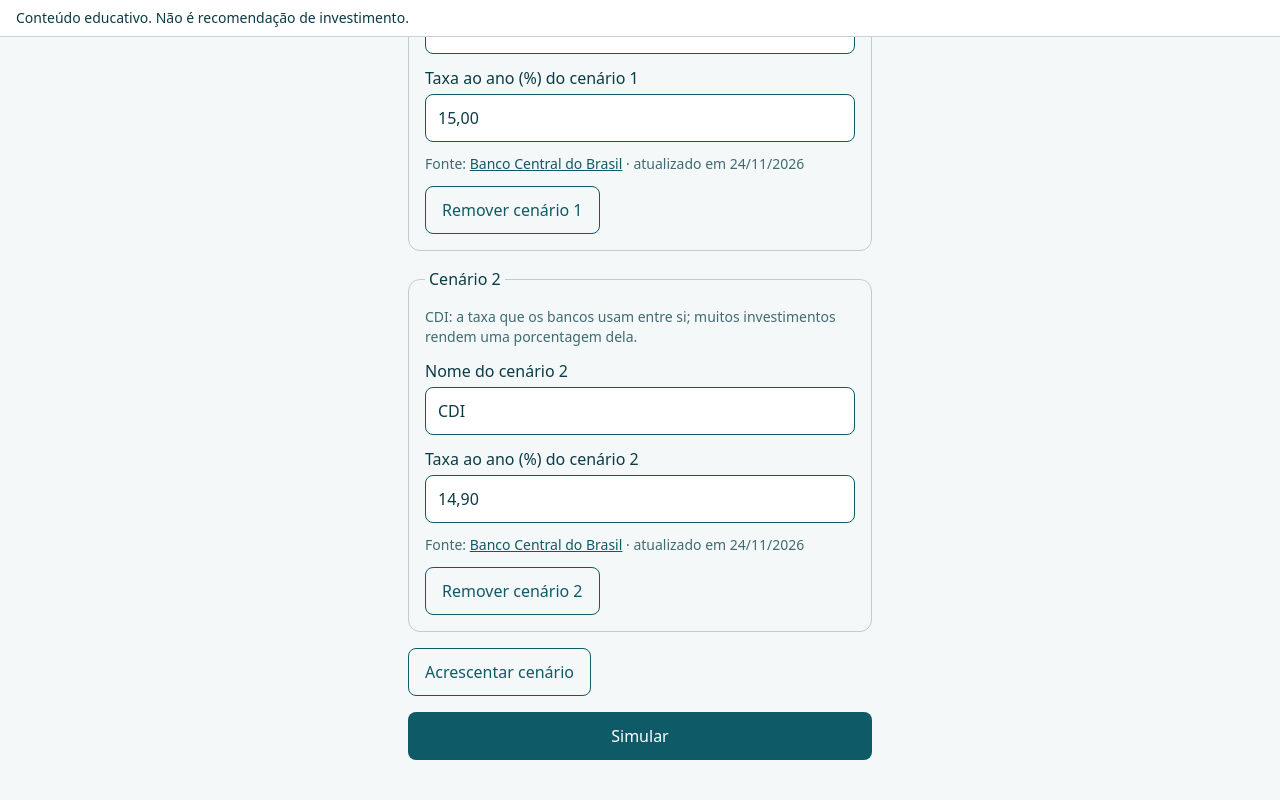
Test: InvestmentSimulatorPage › atMostThreeScenarios
(page scrolled)
Expected: the field showing "15,00" is shown, [425,94,855,142]
Click the button "Acrescentar cenário" at (500, 672), box [408,648,591,696]
(page scrolled)
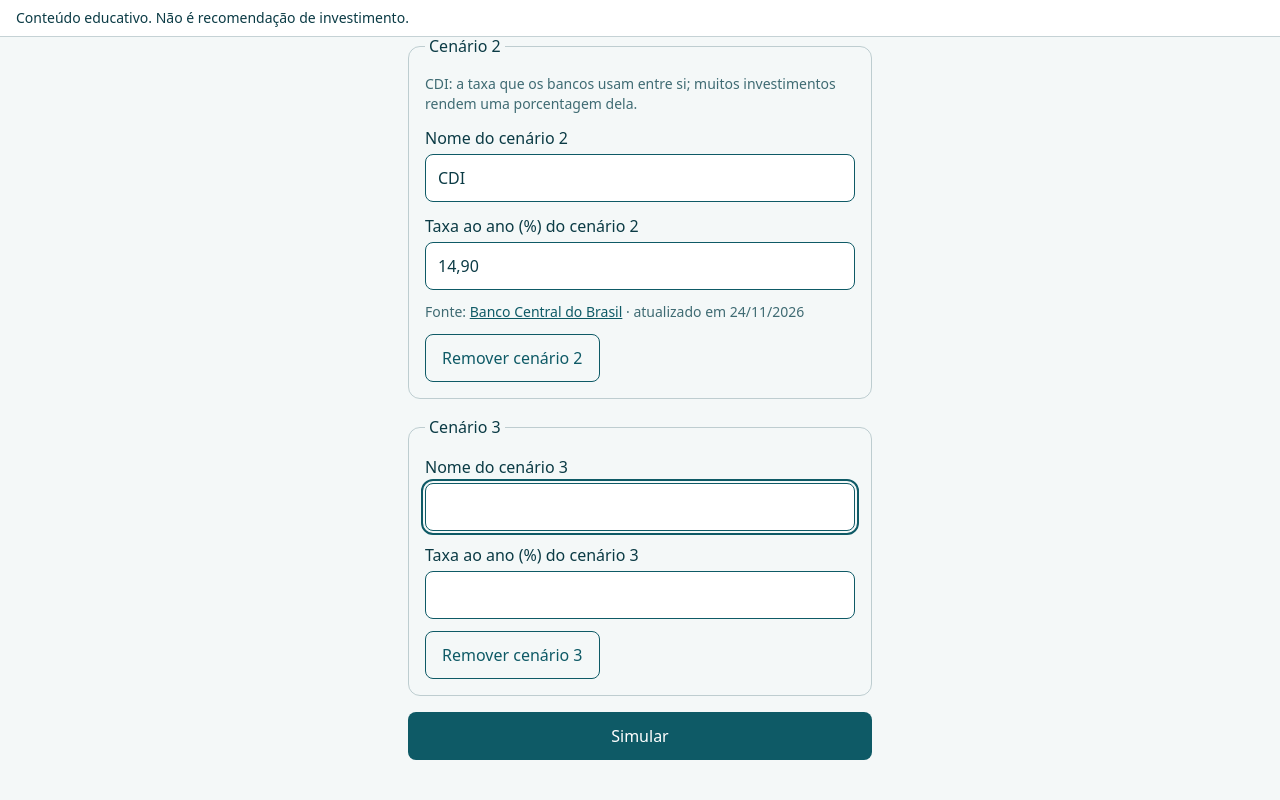
Expected: the button "Acrescentar cenário" is gone
Click the button "Remover cenário 3" at (512, 655), box [425,631,600,679]
(page scrolled)
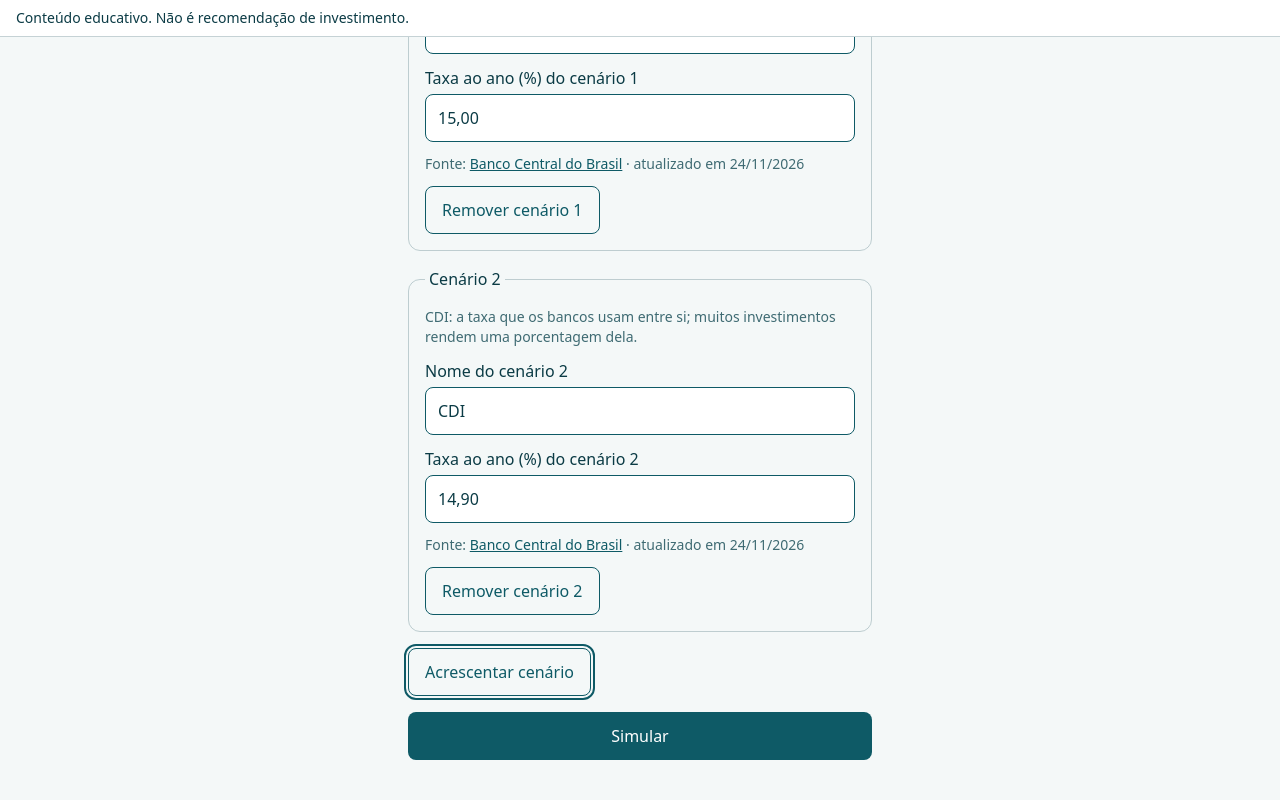
Expected: the button "Acrescentar cenário" is shown, [408,648,591,696]
